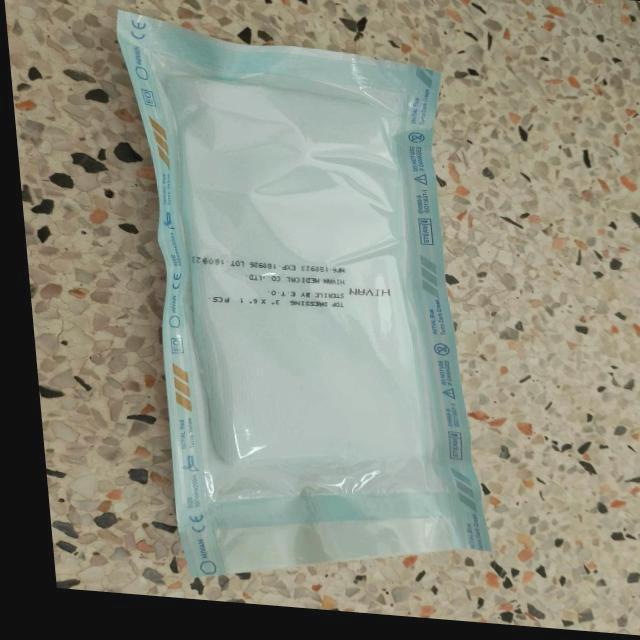Infectious: (117, 9, 493, 577)
